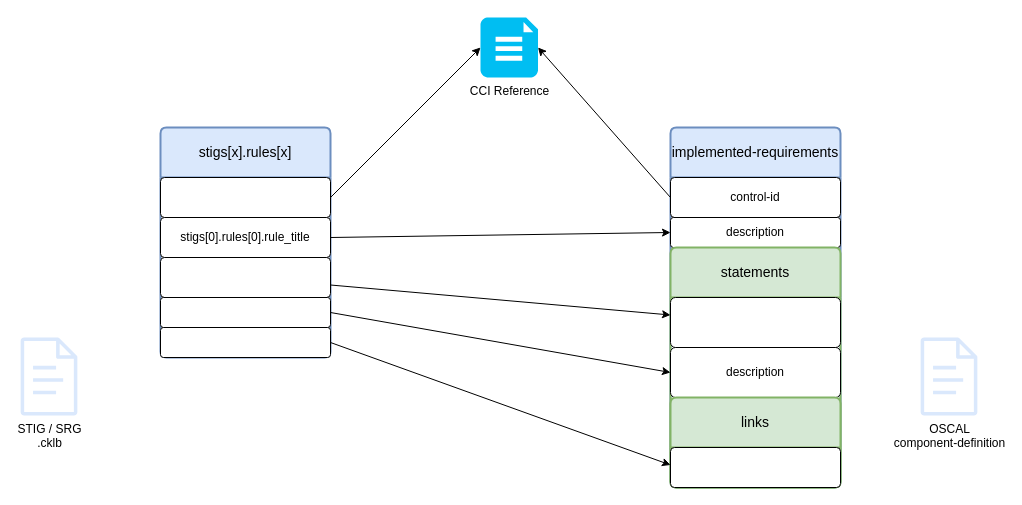
This 1022x505 diagram has some shape labels left out. The centre of each missing label's shape, as x and y in pixels:
stigs[0].rules[0].ccis[*]: [245,197]
stigs[0].rules[0].comments: [245,312]
stigs[0].rules[0].rule_id: [245,342]
stigs[0].rules[0].uuid: [245,277]
text: [755,467]
uuid: [755,322]
